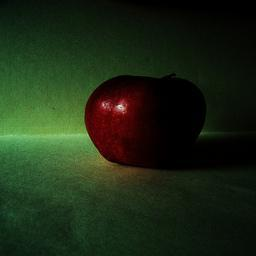apple: (84, 73, 207, 169)
